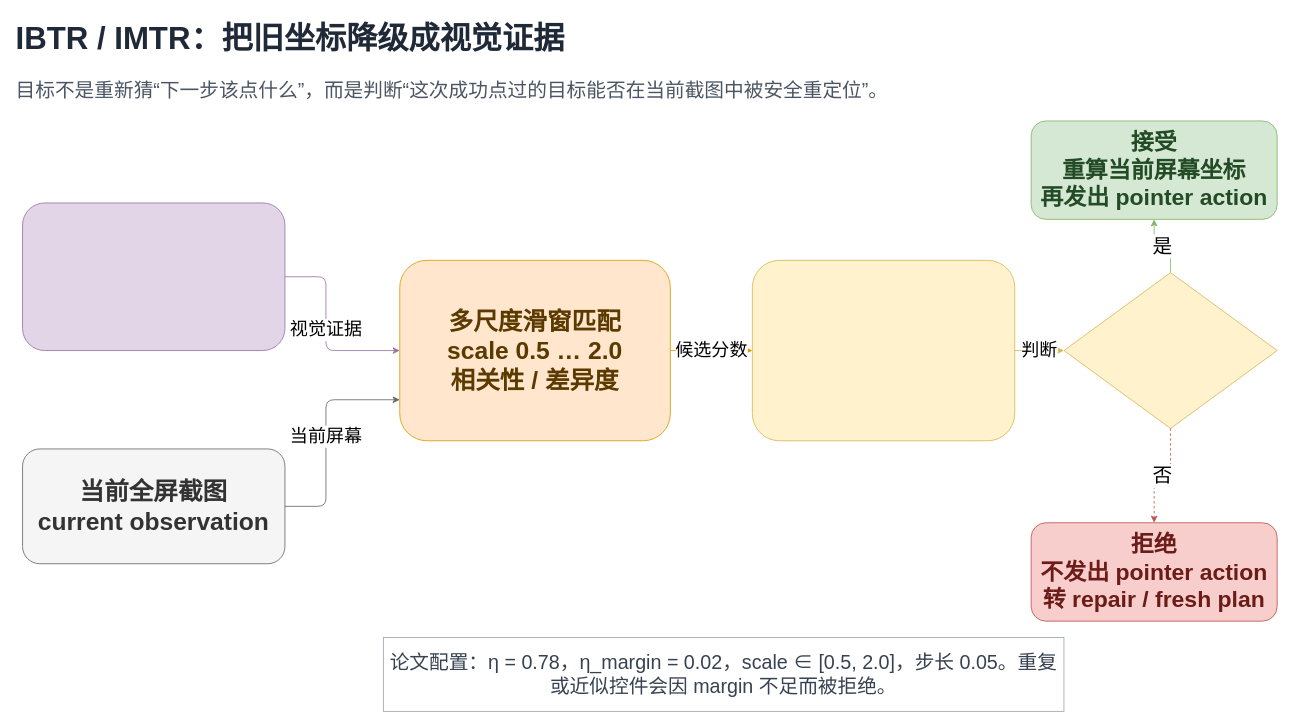
The diagram is 1292 pixels wide and 726 high, and some of its shapes have lost their labels. Here are the shapes that lost their labels. From the top down, the box of each, then its label:
(22, 202, 285, 351): 记忆里的视觉证据 target crop source frame + click ratio
(752, 260, 1015, 441): Best + Second 最高分与次高非重叠候选 Δγ = γ* − γ(2)
(1063, 272, 1277, 428): 绝对分数达标 且 margin 足够？
